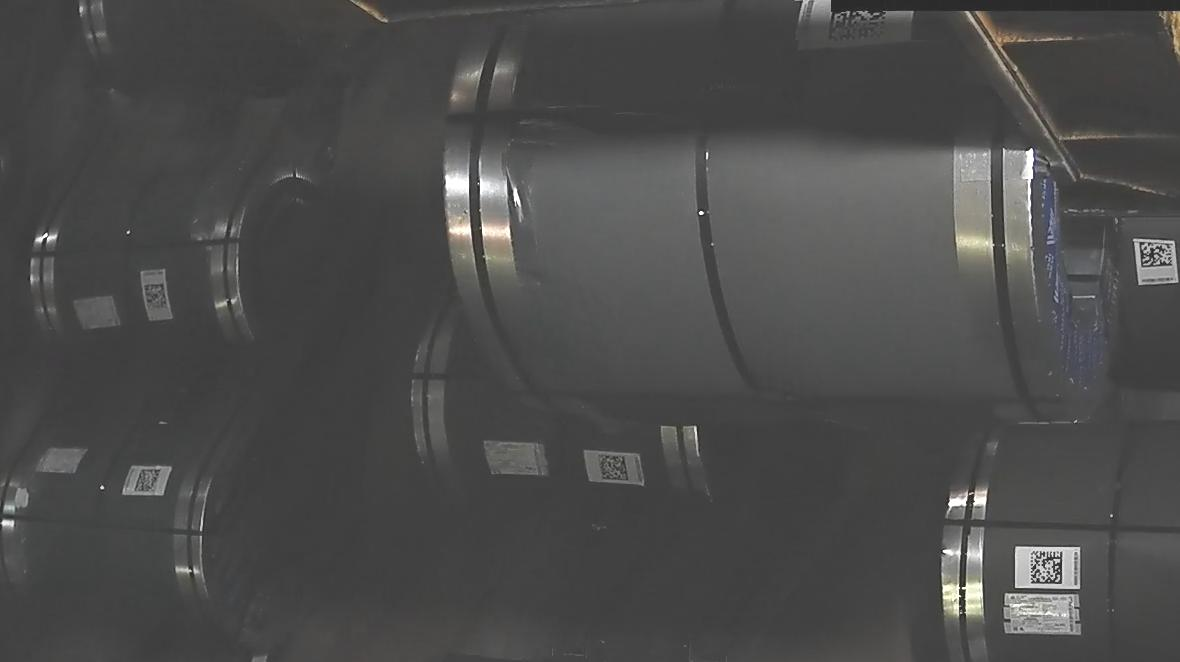data matrix: (1028, 548, 1068, 588), (595, 451, 632, 484), (133, 467, 165, 495), (143, 282, 171, 313)
